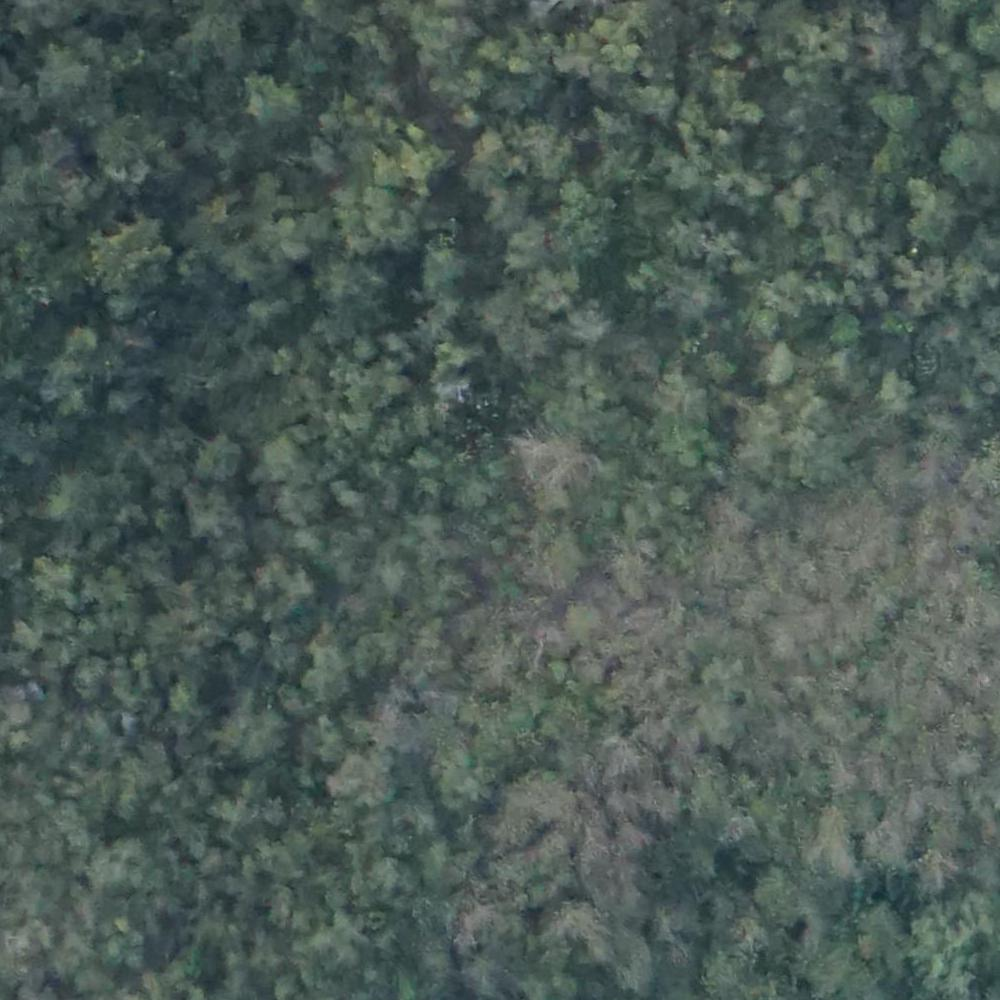tree: (906, 904, 988, 993), (748, 389, 826, 472), (524, 425, 594, 497), (54, 340, 116, 417), (515, 520, 585, 587), (933, 591, 1000, 659), (224, 702, 290, 766), (801, 25, 861, 92), (512, 122, 573, 184), (388, 133, 451, 193), (101, 219, 165, 277), (938, 125, 993, 191), (53, 50, 111, 111), (326, 254, 386, 312), (329, 752, 394, 804), (93, 111, 152, 168), (48, 471, 102, 533), (558, 191, 611, 252), (178, 483, 236, 535), (91, 845, 144, 901), (441, 744, 494, 799), (306, 643, 354, 700), (253, 559, 306, 610), (36, 552, 79, 613), (425, 246, 473, 297), (631, 73, 681, 120), (266, 436, 307, 485), (194, 429, 234, 477), (566, 309, 614, 348), (721, 170, 764, 213), (870, 90, 921, 126), (769, 342, 805, 392), (566, 362, 604, 406), (700, 345, 737, 390), (273, 216, 311, 257), (534, 267, 572, 306), (242, 85, 283, 120), (885, 367, 919, 408), (407, 625, 443, 658), (779, 194, 810, 230), (793, 165, 816, 193)
